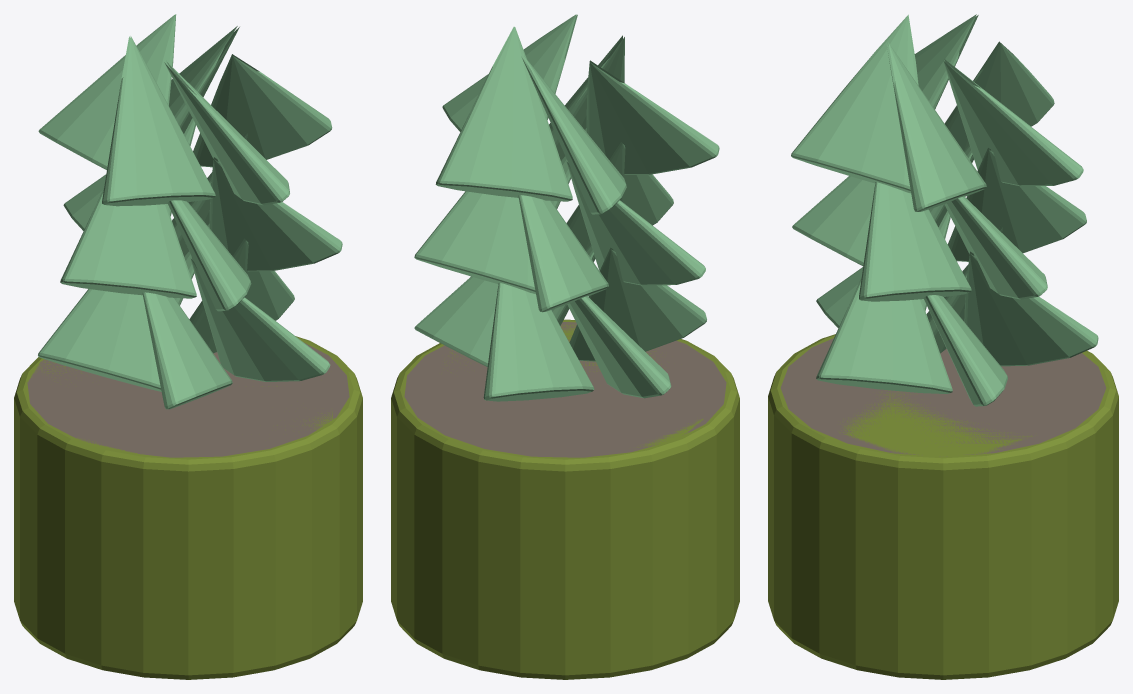
Rendered from isometric_modern_office_kit_21.glb.
3 views of the same model, side by side, from view 1: azimuth 30°, elevation 25°; view 2: azimuth 150°, elevation 25°; view 3: azimuth 270°, elevation 25° (orthographic).
Parts seen in each view (by area): view 1: Cylinder; view 2: Cylinder; view 3: Cylinder.
Boxes of the visible parts, <box> form: Cylinder: <box>14,14,362,679</box>; Cylinder: <box>391,14,739,679</box>; Cylinder: <box>768,14,1118,679</box>.
Bounding box in the file's own units: 0.546 × 0.9875 × 0.546.
